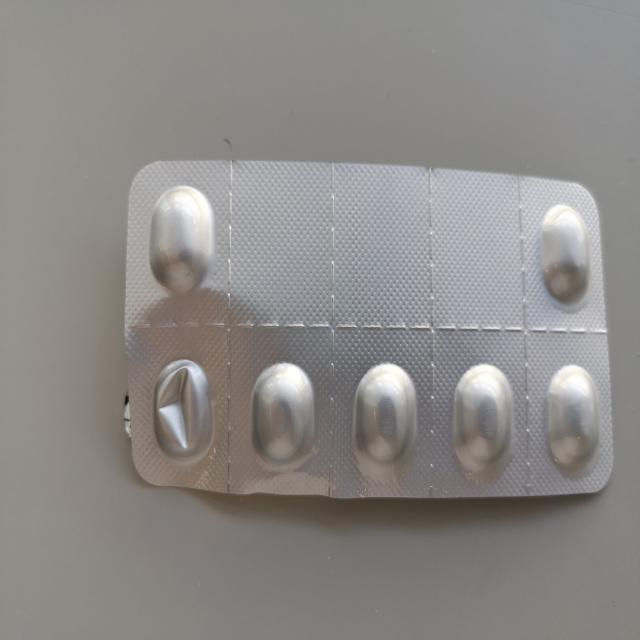Empty: (147, 352, 218, 471)
Pill: (348, 355, 422, 484), (245, 356, 322, 476), (144, 179, 217, 302), (448, 359, 520, 482), (541, 357, 604, 477), (535, 196, 593, 310)
